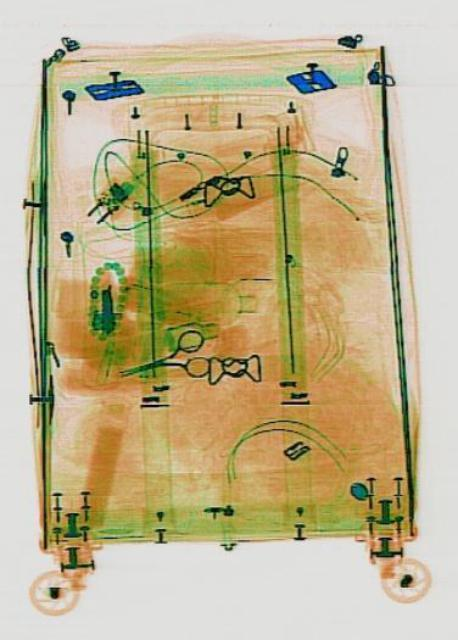Scissors: (114, 323, 210, 399)
